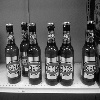beer: (4, 22, 21, 86)
